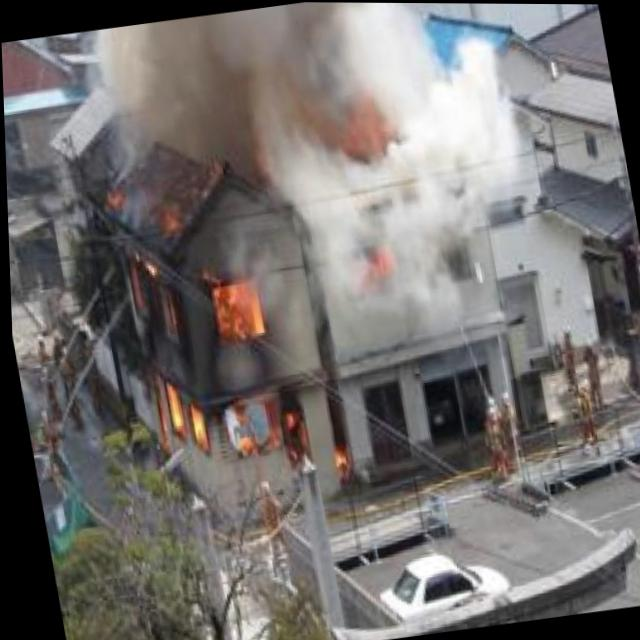Fire: (79, 159, 355, 520)
